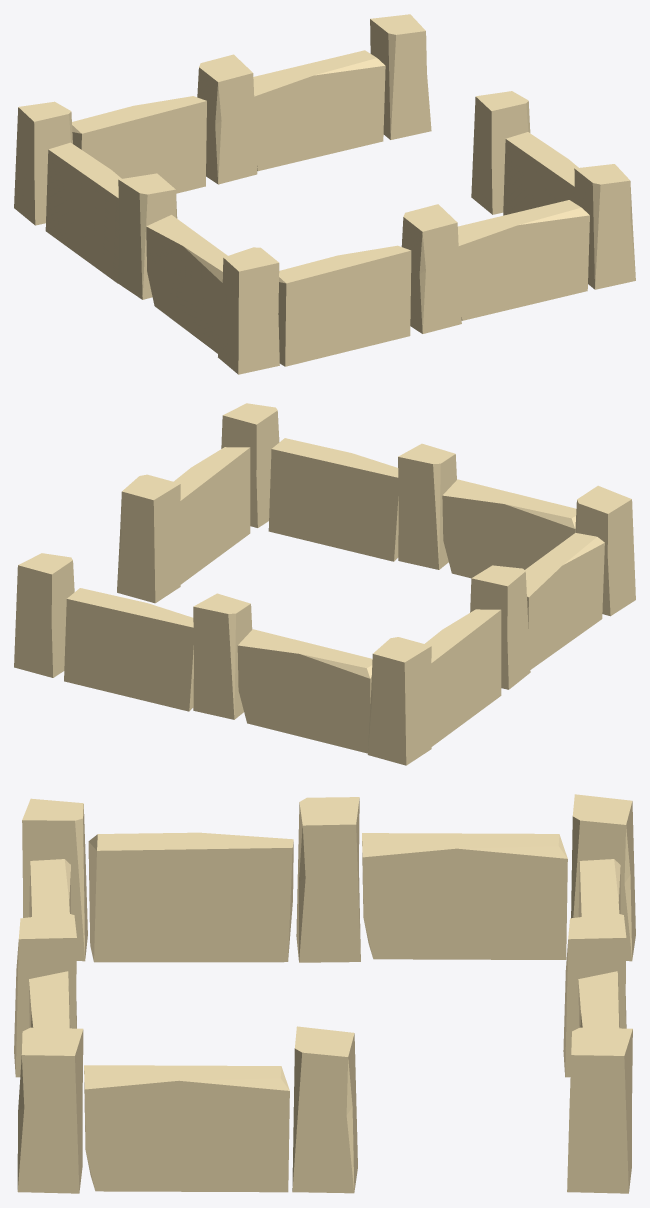
The model's file is Module_Garden_Bed_LOD02.fbx.
3 renders of one model, top to bottom at view 1: azimuth 30°, elevation 25°; view 2: azimuth 150°, elevation 25°; view 3: azimuth 270°, elevation 25°, orthographic. The views are drawn at different scales.
Parts seen in each view (by area): view 1: Module_Garden_Bed_LOD02_Geometry; view 2: Module_Garden_Bed_LOD02_Geometry; view 3: Module_Garden_Bed_LOD02_Geometry.
Boxes of the visible parts, left/top/right/bottom form: Module_Garden_Bed_LOD02_Geometry: left=14, top=14, right=635, bottom=374; Module_Garden_Bed_LOD02_Geometry: left=14, top=403, right=635, bottom=765; Module_Garden_Bed_LOD02_Geometry: left=14, top=794, right=635, bottom=1193.
Size of the model in its own units: 7.31 by 1.9 by 7.39.
